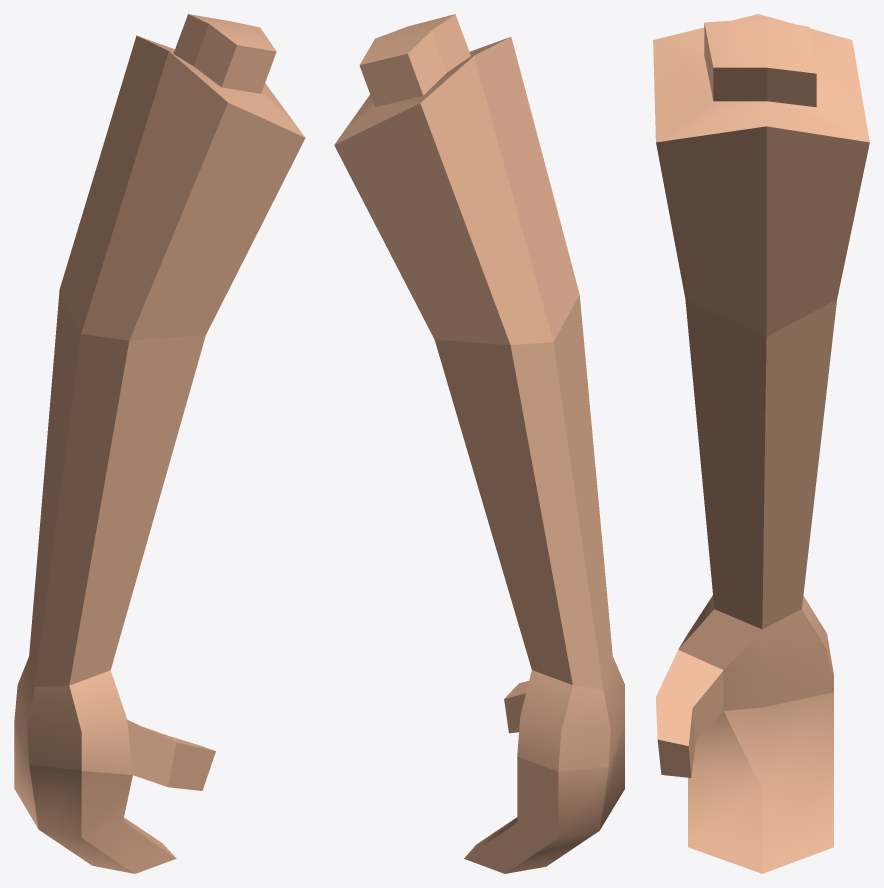
The model's file is BrazoCortado.fbx.
The picture shows the model from 3 angles, left to right: view 1: azimuth 30°, elevation 25°; view 2: azimuth 150°, elevation 25°; view 3: azimuth 270°, elevation 25°; orthographic projection. The views are drawn at different scales.
Parts seen in each view (by area): view 1: BrazoCortado; view 2: BrazoCortado; view 3: BrazoCortado.
Part boxes in pixels (x1,y1,x2,y2): BrazoCortado: (14,14,305,873); BrazoCortado: (334,14,624,873); BrazoCortado: (653,14,869,873).
Size of the model in its own units: 23.9 by 78.23 by 17.37.
